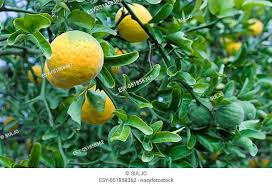orange: (46, 31, 104, 82), (75, 88, 119, 124), (114, 6, 153, 46)
